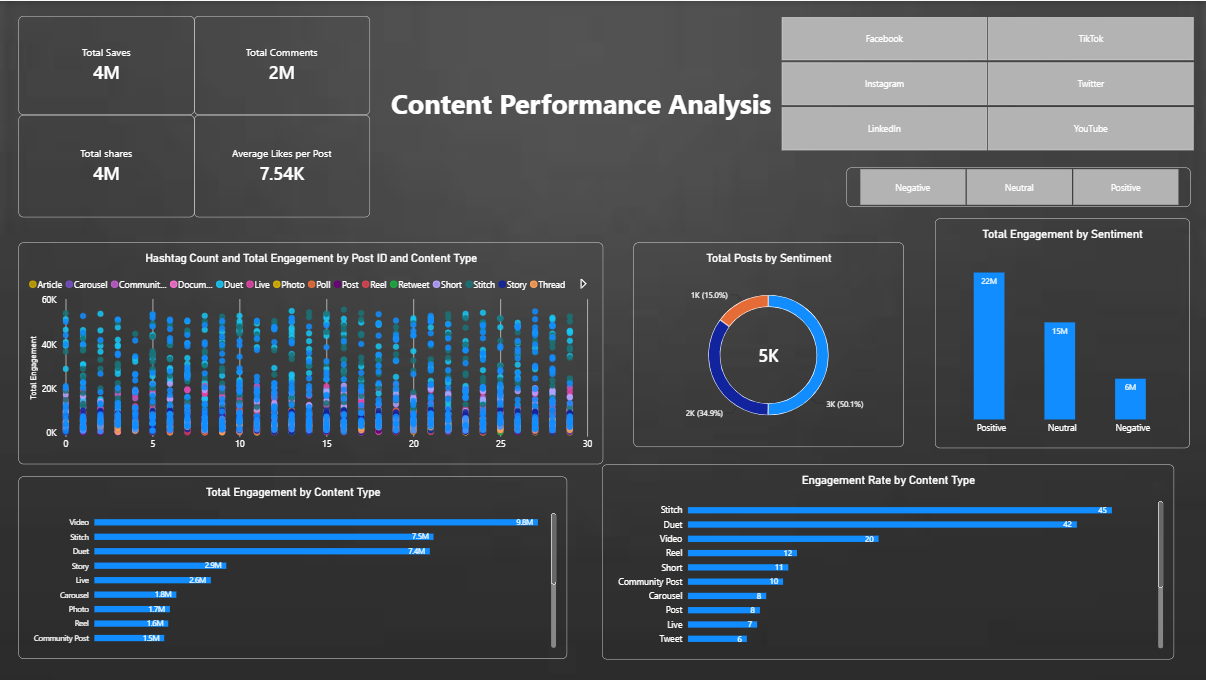

What the dashboard file says about the page in this screenshot:
{"tool":"powerbi","page":{"name":"Page 2","canvas":[1920,1080],"ordinal":1},"visuals":[{"type":"clusteredBarChart","title":"Total Engagement by Content Type","fields":{"Category":["social_media.Content_Type"],"Y":["social_media.Total Engagement"]},"box":[30,757.5,872.5,290],"z":0},{"type":"clusteredBarChart","title":"Engagement Rate by Content Type","fields":{"Category":["social_media.Content_Type"],"Y":["social_media.Average Engagement Rate"]},"box":[960,737.5,910,310],"z":1000},{"type":"donutChart","fields":{"Category":["social_media.Sentiment"],"Y":["social_media.Total Posts"]},"box":[1010,385,430,325],"z":2000},{"type":"clusteredColumnChart","fields":{"Category":["social_media.Sentiment"],"Y":["social_media.Total Engagement"]},"box":[1490,345,405,365],"z":2001},{"type":"scatterChart","title":"Hashtag Count and Total Engagement by Post ID and Content Type","fields":{"Category":["social_media.Post_ID"],"Series":["social_media.Content_Type"],"X":["Sum(social_media.Hashtag_Count)"],"Y":["social_media.Total Engagement"]},"box":[30,385,930,352.5],"z":2003},{"type":"cardVisual","fields":{"Data":["social_media.Total Saves"]},"box":[30,25,280,157.5],"z":2004},{"type":"cardVisual","fields":{"Data":["social_media.Average Likes per Post"]},"box":[310,182.5,280,162.5],"z":2005},{"type":"cardVisual","fields":{"Data":["social_media.Total Comments"]},"box":[310,25,280,157.5],"z":2006},{"type":"cardVisual","fields":{"Data":["social_media.Total shares"]},"box":[30,182.5,280,162.5],"z":2007},{"type":"slicer","fields":{"Values":["social_media.Sentiment"]},"box":[1347.5,265,547.5,62.5],"z":2008},{"type":"slicer","fields":{"Values":["social_media.Platform"]},"box":[1225,25,695,215],"z":2009},{"type":"textbox","box":[607.5,132.5,635,85],"z":2010}]}

Visuals, with their boxes in screenshot pixels (x1, y1, x2, y2), scaled from the page's 1920x1080 canvas onto the 1206x680 screenshot:
"Total Engagement by Content Type" clusteredBarChart: 19:477:567:660
"Engagement Rate by Content Type" clusteredBarChart: 603:464:1175:660
donutChart - social_media.Sentiment x social_media.Total Posts: 634:242:905:447
clusteredColumnChart - social_media.Sentiment x social_media.Total Engagement: 936:217:1190:447
"Hashtag Count and Total Engagement by Post ID and Content Type" scatterChart: 19:242:603:464
cardVisual - social_media.Total Saves: 19:16:195:115
cardVisual - social_media.Average Likes per Post: 195:115:371:217
cardVisual - social_media.Total Comments: 195:16:371:115
cardVisual - social_media.Total shares: 19:115:195:217
slicer - social_media.Sentiment: 846:167:1190:206
slicer - social_media.Platform: 769:16:1205:151
textbox: 382:83:780:137
